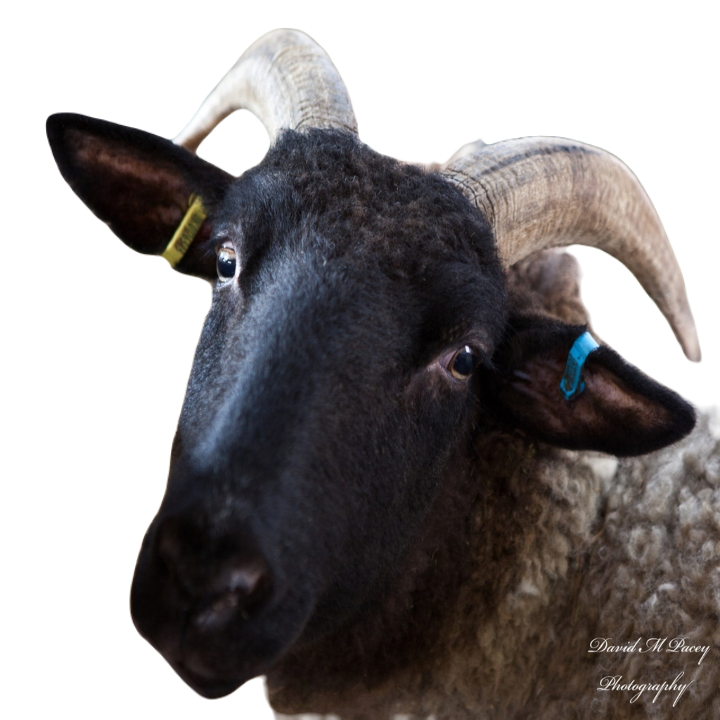Sheep: (40, 29, 719, 719)
